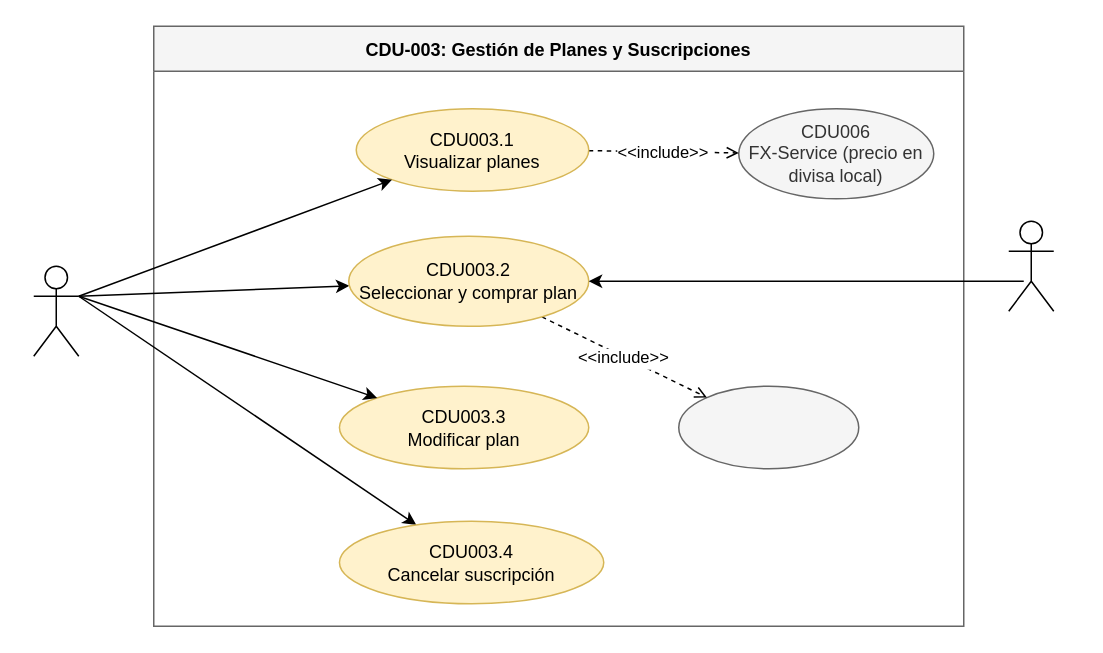
The diagram is 1103 pixels wide and 653 high, and some of its shapes have lost their labels. The shapes that lost their labels are listed below. From the top down, each one's box as (x1, y1, x2, y2) in pixels, then its label:
(1007, 220, 1054, 311): Sistema de Pago
(32, 265, 79, 356): Usuario
(677, 385, 859, 469): CDU008.2 Enviar recibo de compra
